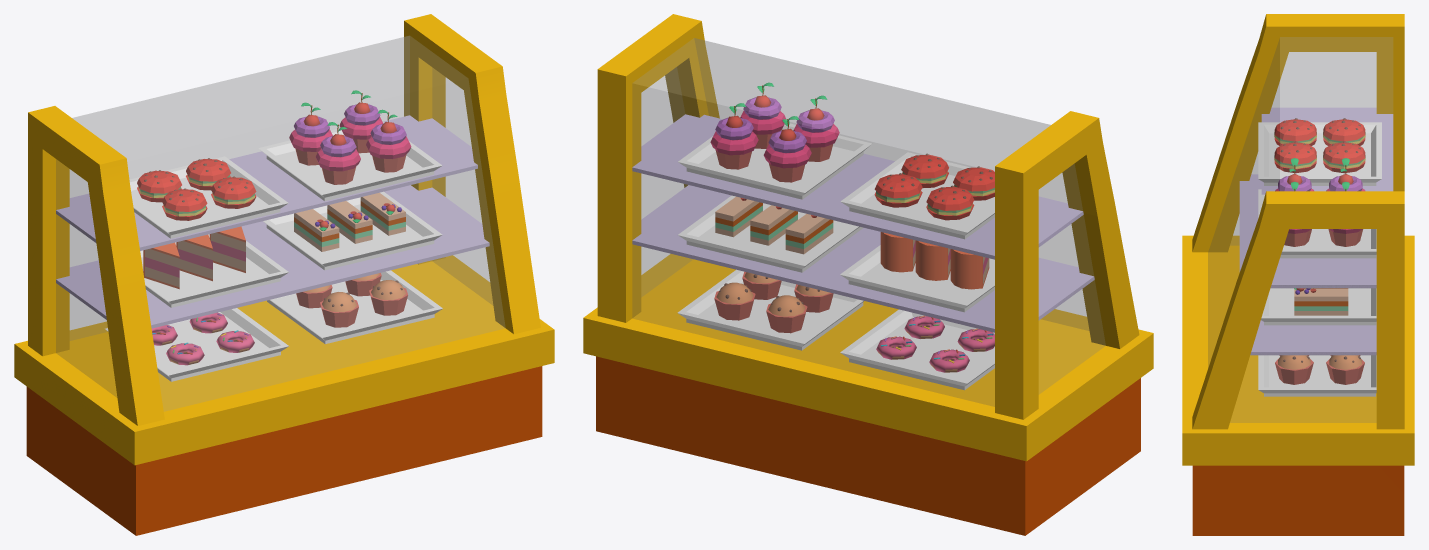
Rendered from Bakery_lv3.fbx.
The picture shows the model from 3 angles, left to right: view 1: azimuth 30°, elevation 25°; view 2: azimuth 150°, elevation 25°; view 3: azimuth 270°, elevation 25°; orthographic projection. The views are drawn at different scales.
Visible parts, largest first — view 1: Bakery_lv3; view 2: Bakery_lv3; view 3: Bakery_lv3.
Part boxes in pixels (box(x1,y1,x2,y2)): Bakery_lv3: box(14, 14, 554, 535); Bakery_lv3: box(583, 14, 1153, 535); Bakery_lv3: box(1182, 14, 1414, 535).
Size of the model in its own units: 310 by 242 by 154.
